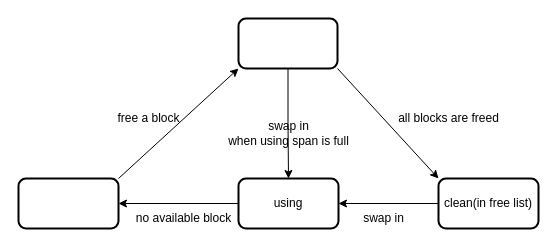
Image size: 556x246. Some labels were removed from this diagram. Each missing label, with the box of its shape:
full: (17, 177, 119, 229)
suspend: (237, 17, 338, 69)
